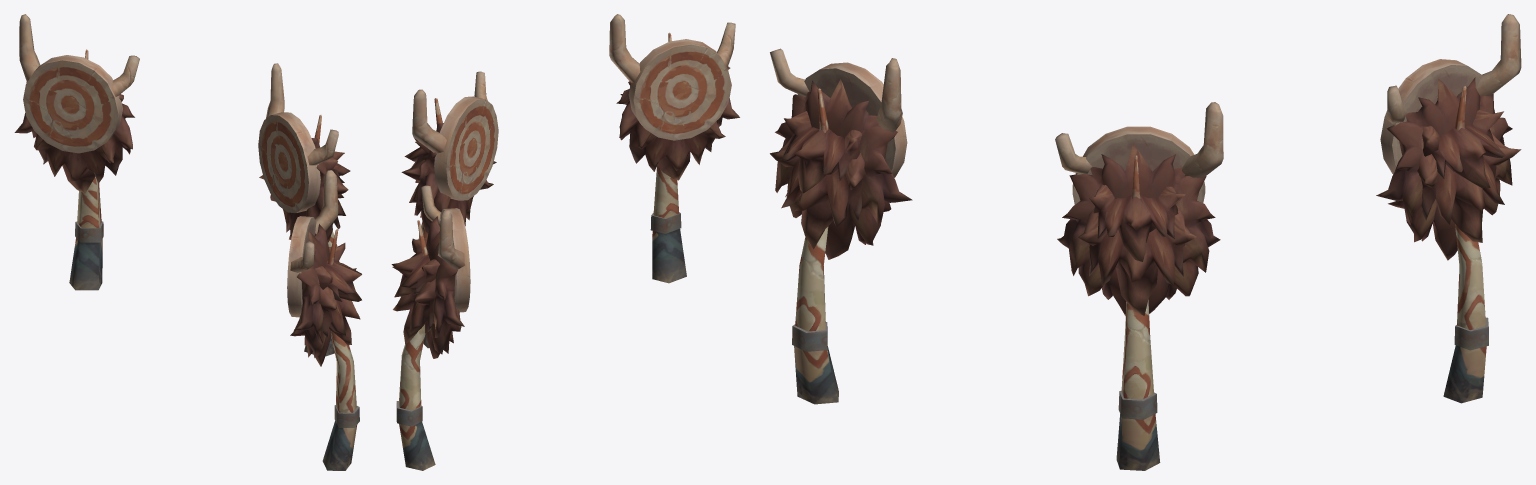
The model's file is Homeworld_Exterior_Common_Decoration_Junk_06_Lod0.fbx.
The picture shows the model from 3 angles, left to right: view 1: azimuth 30°, elevation 25°; view 2: azimuth 150°, elevation 25°; view 3: azimuth 270°, elevation 25°; orthographic projection. The views are drawn at different scales.
Visible parts, largest first — view 1: Area_Common_Build_Hili_House_14_Lod0 (×3); view 2: Area_Common_Build_Hili_House_14_Lod0 (×3); view 3: Area_Common_Build_Hili_House_14_Lod0 (×3).
Part boxes in pixels (bbox=[...]): Area_Common_Build_Hili_House_14_Lod0 (×3): bbox=[14, 14, 361, 470]; Area_Common_Build_Hili_House_14_Lod0 (×3): bbox=[391, 14, 739, 470]; Area_Common_Build_Hili_House_14_Lod0 (×3): bbox=[770, 14, 1521, 470].
Bounding box in the file's own units: 1.73 × 2.34 × 4.54.
